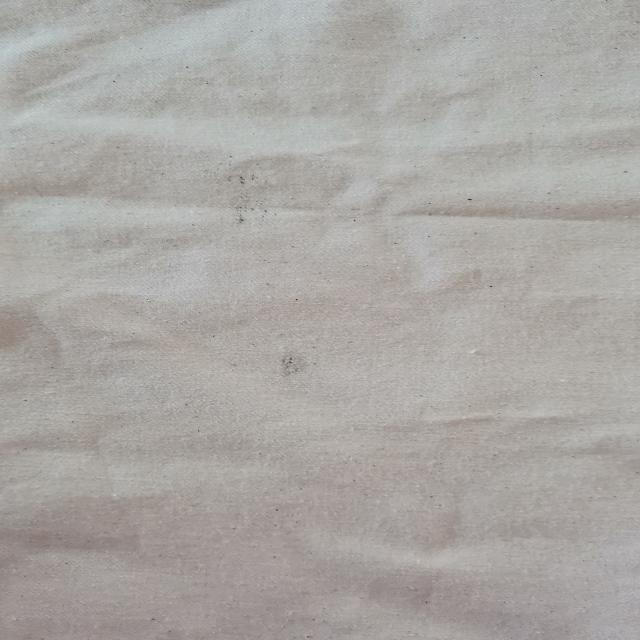taaaches: (263, 336, 328, 389)
